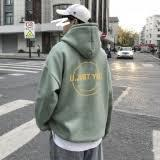sweater: (34, 22, 116, 142)
